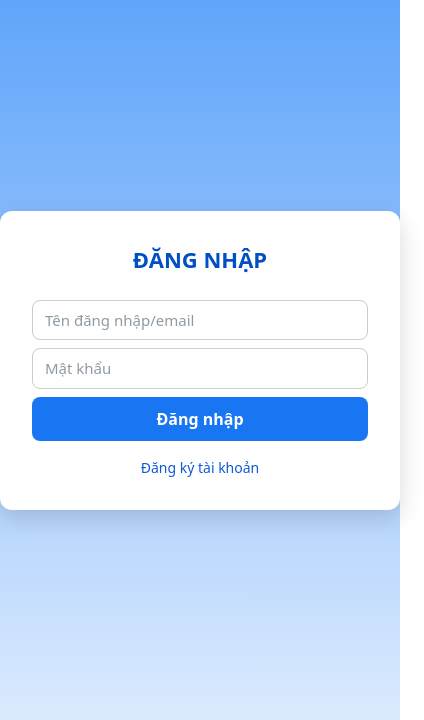
Test: Login Integration Test › TC05 - Hiển thị thông báo lỗi khi đăng nhập thất bại
Type "wronguser" into the field with test id "username-input" at (200, 320), box [32,300,368,340]
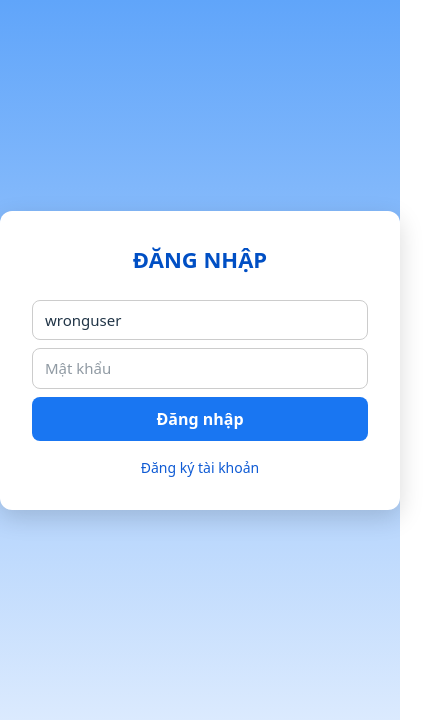
Type "abc123" into the password field with test id "password-input" at (200, 368), box [32,348,368,388]
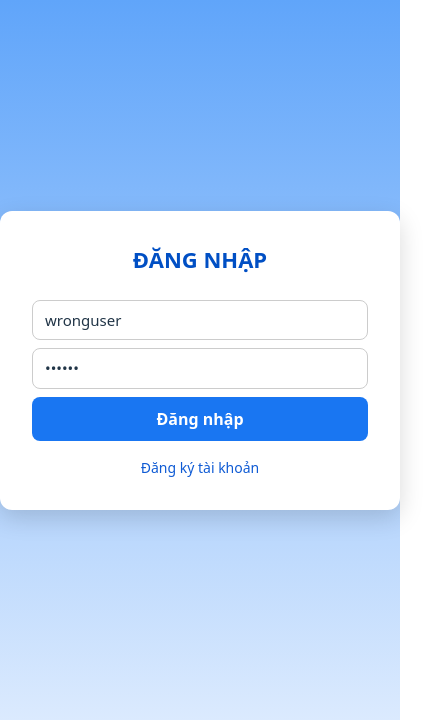
Click the button "Đăng nhập" at (200, 418), box [32,396,368,440]
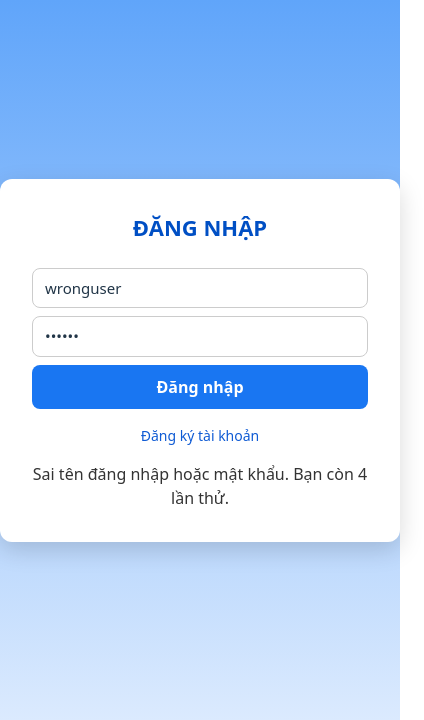
Check: the text with test id "message" shows "Sai tên đăng nhập hoặc mật khẩu", box [33,462,367,508]
